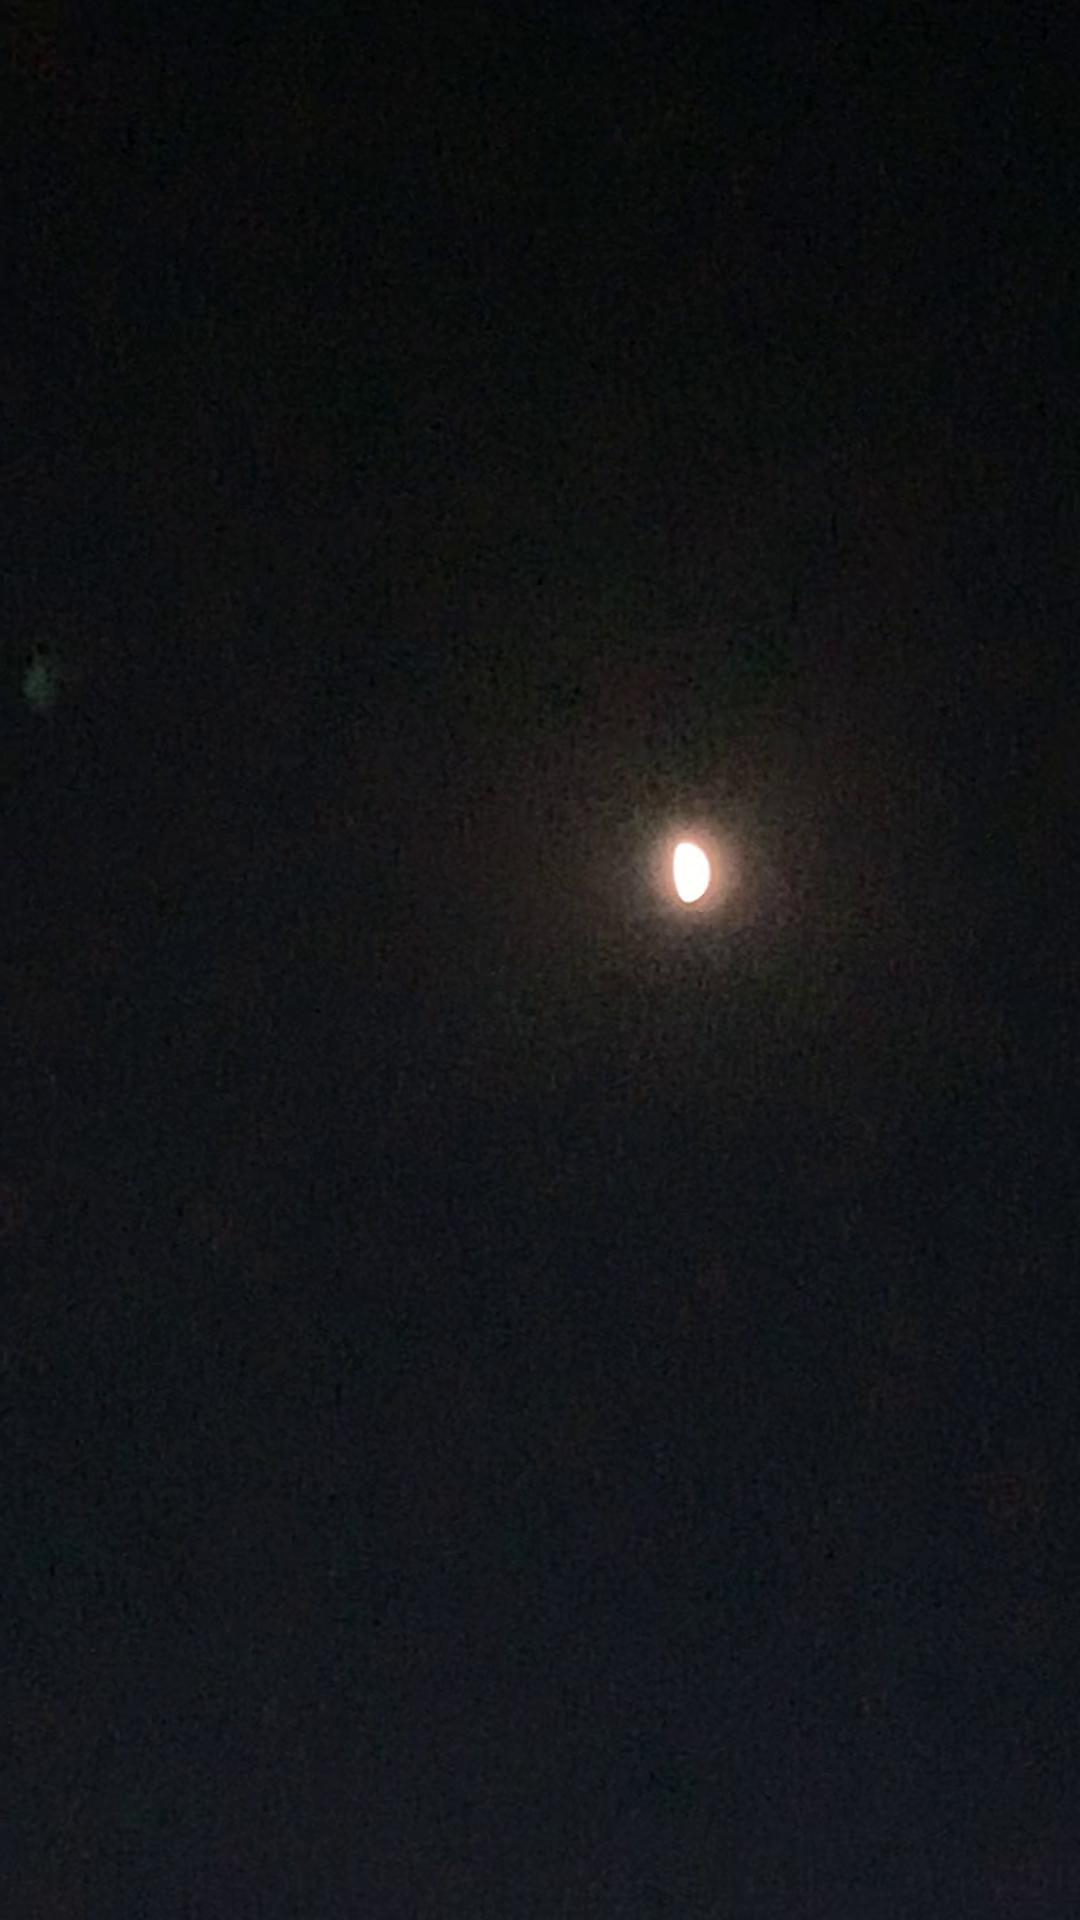moon: (650, 829, 738, 911)
